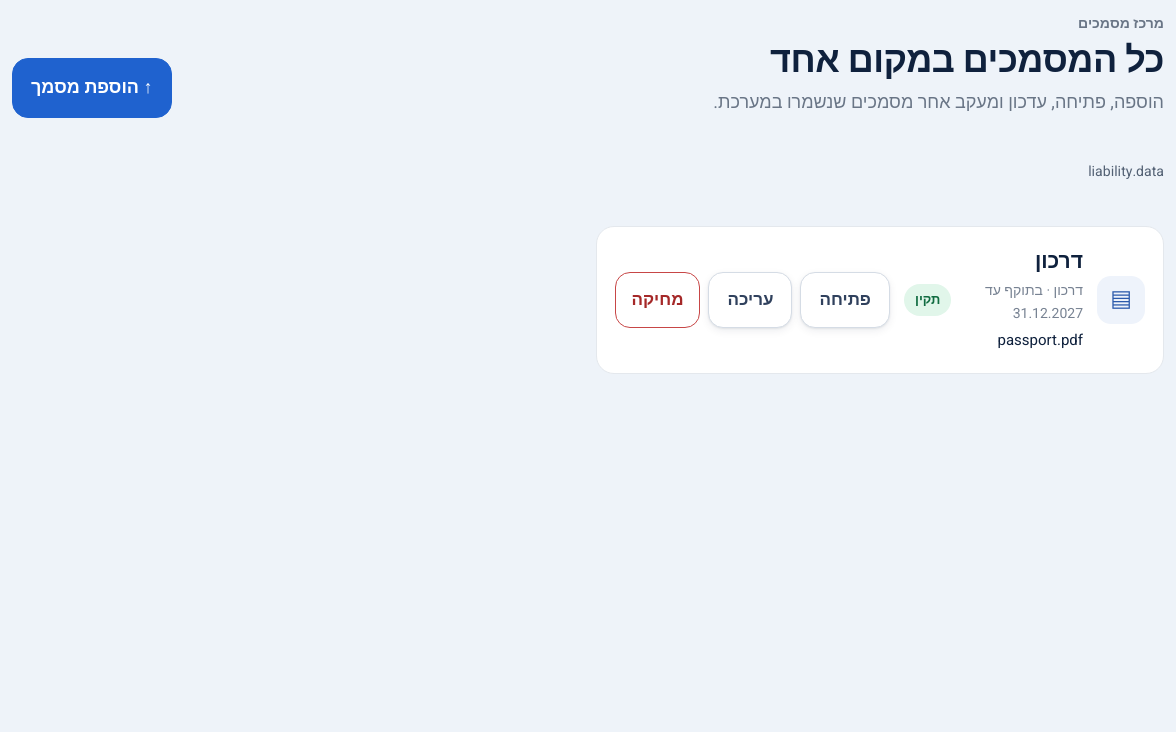
Test: DocumentsPage › loads a previously saved display date into the calendar when editing
Click the button "עריכה": (750,300) [708, 272, 792, 328]
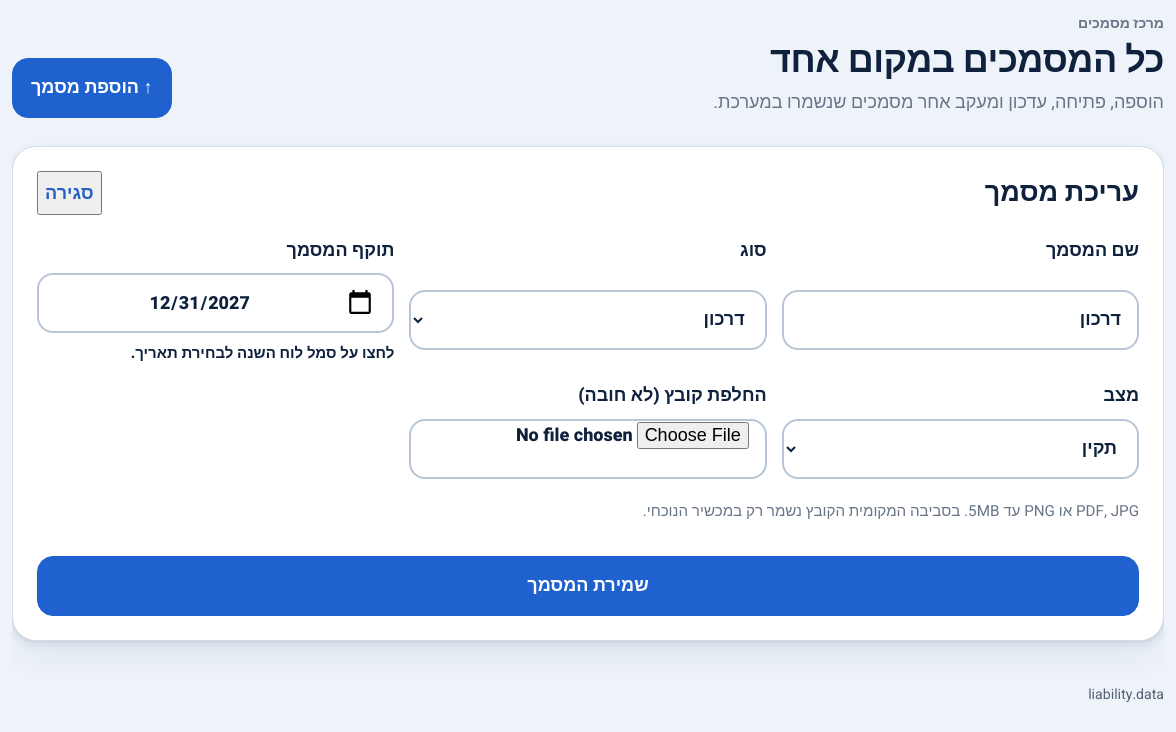
Now the date field labelled "תוקף המסמך" holds "2027-12-31", box [37, 273, 394, 333]
